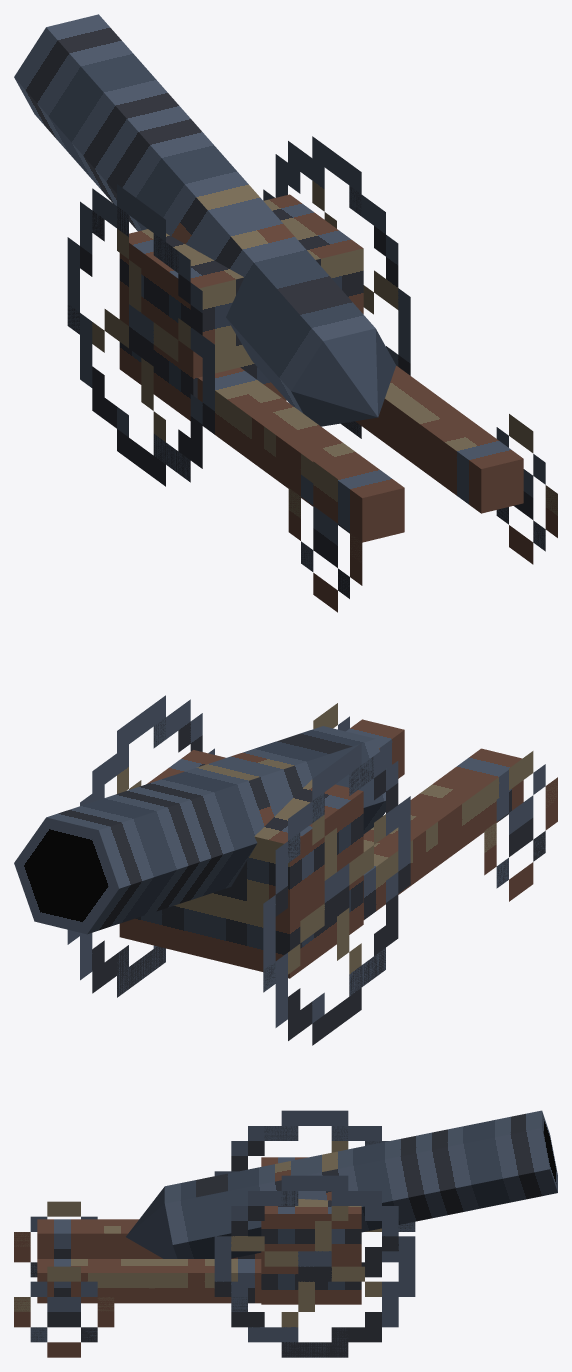
The model's file is artillery_cannon.fbx.
3 views of the same model, one above another, from view 1: azimuth 30°, elevation 25°; view 2: azimuth 150°, elevation 25°; view 3: azimuth 270°, elevation 25° (orthographic). The views are drawn at different scales.
Parts seen in each view (by area): view 1: cylinder, cube_3, cube, cube_2, cube_1, cube_4, cube_6, cube_5; view 2: cylinder, cube, cube_3, cube_2, cube_4, cube_6, cube_1, cube_5; view 3: cylinder, cube_4, cube_1, cube, cube_3, cube_5, cube_2, cube_6.
Part boxes in pixels (x1,y1,x2,y2): cylinder: [14, 14, 395, 426]; cube_3: [67, 184, 214, 486]; cube: [119, 194, 363, 420]; cube_2: [197, 367, 404, 542]; cube_1: [355, 365, 523, 513]; cube_4: [263, 136, 410, 438]; cube_6: [288, 461, 362, 612]; cube_5: [496, 414, 557, 564]; cylinder: [14, 726, 385, 934]; cube: [119, 750, 363, 978]; cube_3: [263, 743, 410, 1045]; cube_2: [363, 748, 523, 919]; cube_4: [67, 695, 214, 997]; cube_6: [484, 751, 557, 901]; cube_1: [346, 719, 404, 778]; cube_5: [313, 703, 349, 731]; cylinder: [126, 1110, 557, 1258]; cube_4: [214, 1175, 415, 1357]; cube_1: [37, 1259, 261, 1303]; cube: [261, 1157, 361, 1304]; cube_3: [214, 1110, 415, 1277]; cube_5: [14, 1266, 114, 1357]; cube_2: [37, 1219, 261, 1258]; cube_6: [14, 1201, 97, 1277].
Bounding box in the file's own units: 28.75 × 42.44 × 102.
1 material, 1 textured.
